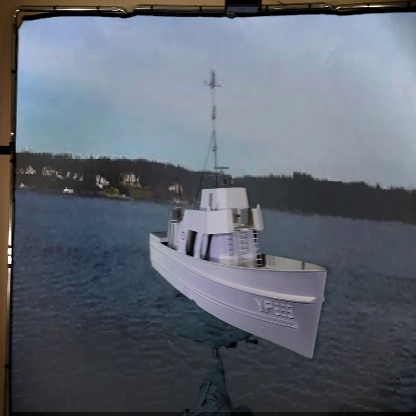YP689: (149, 69, 326, 359)
